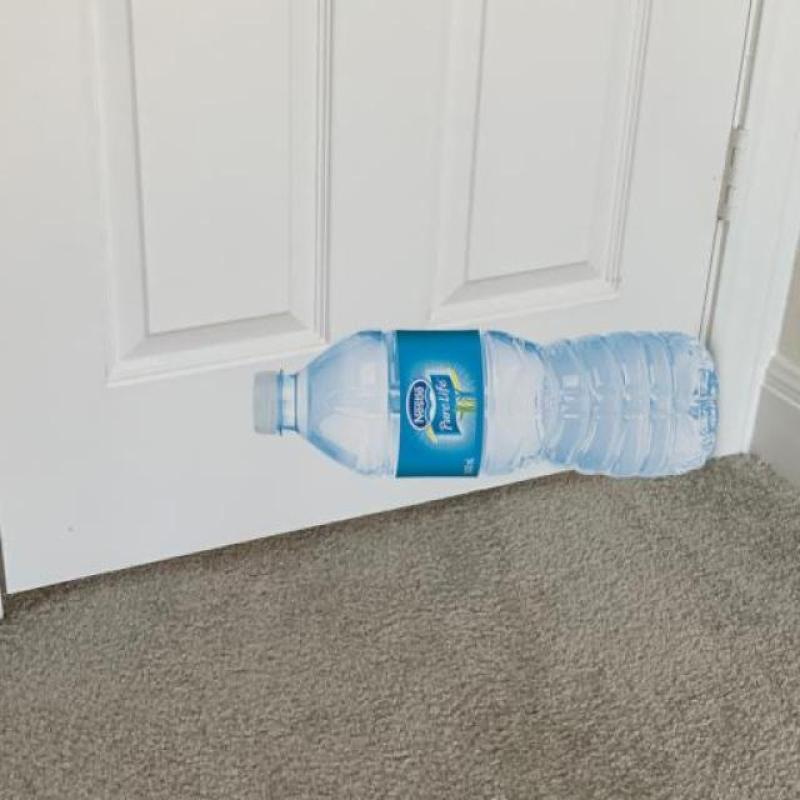botella: (254, 332, 716, 476)
